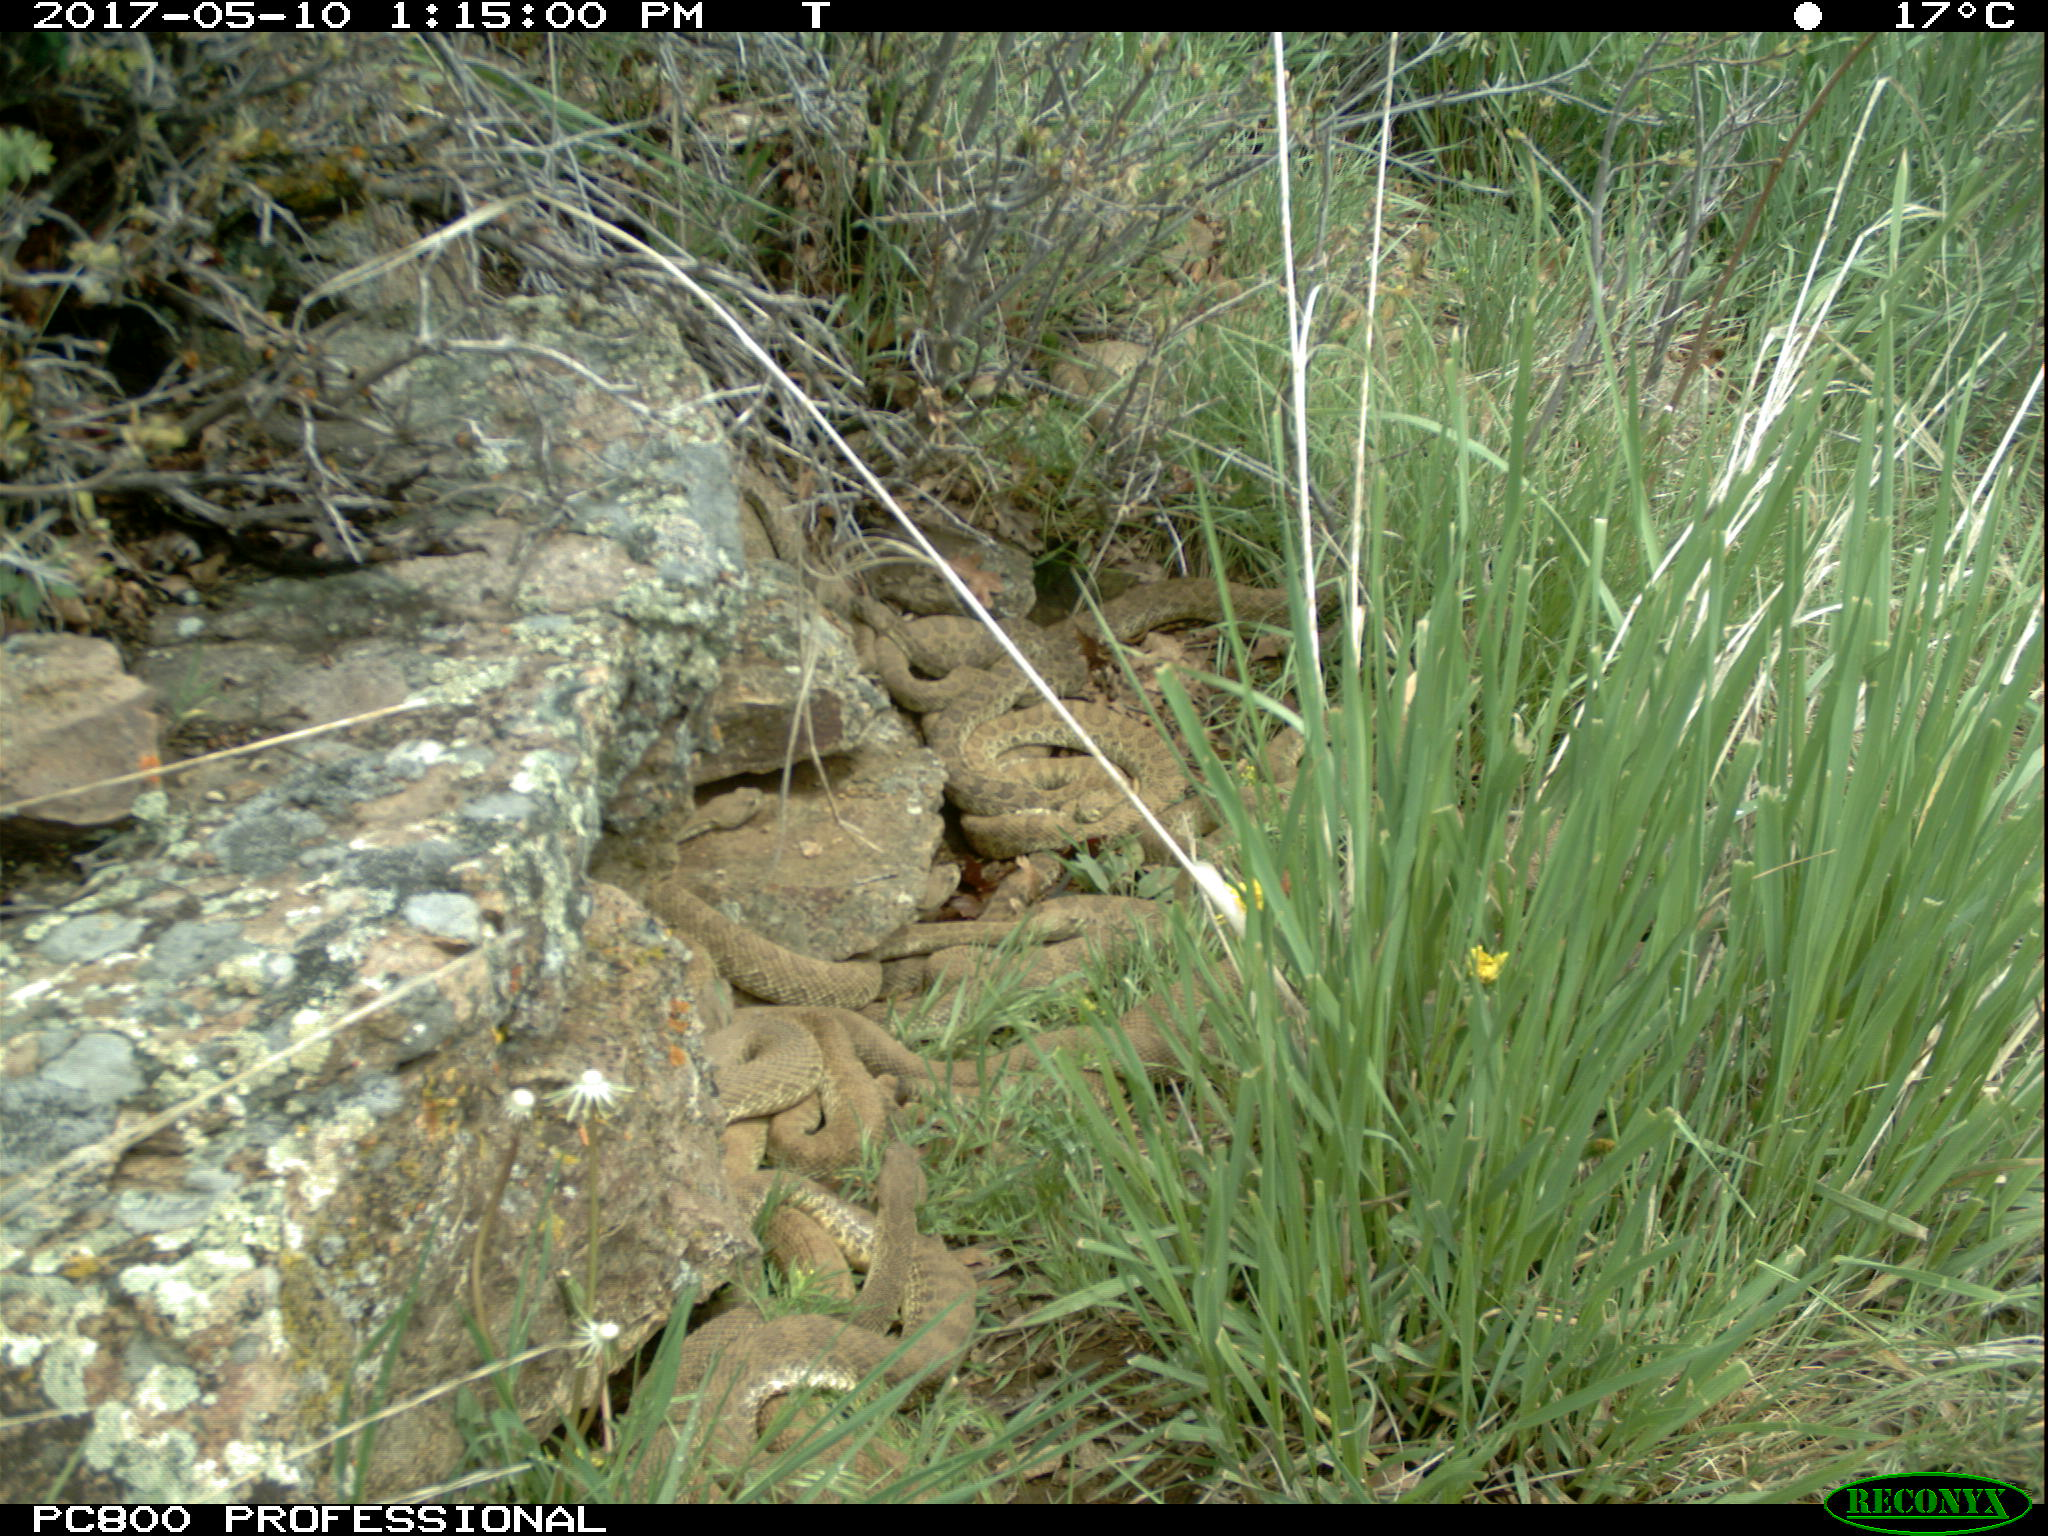snake: (643, 1297, 974, 1504), (750, 1121, 977, 1379), (927, 987, 1272, 1108), (901, 850, 1201, 970), (947, 699, 1193, 842), (698, 1004, 913, 1163), (634, 874, 900, 1000), (872, 613, 1098, 712), (1076, 573, 1335, 649), (669, 781, 769, 844), (1248, 721, 1309, 820)
